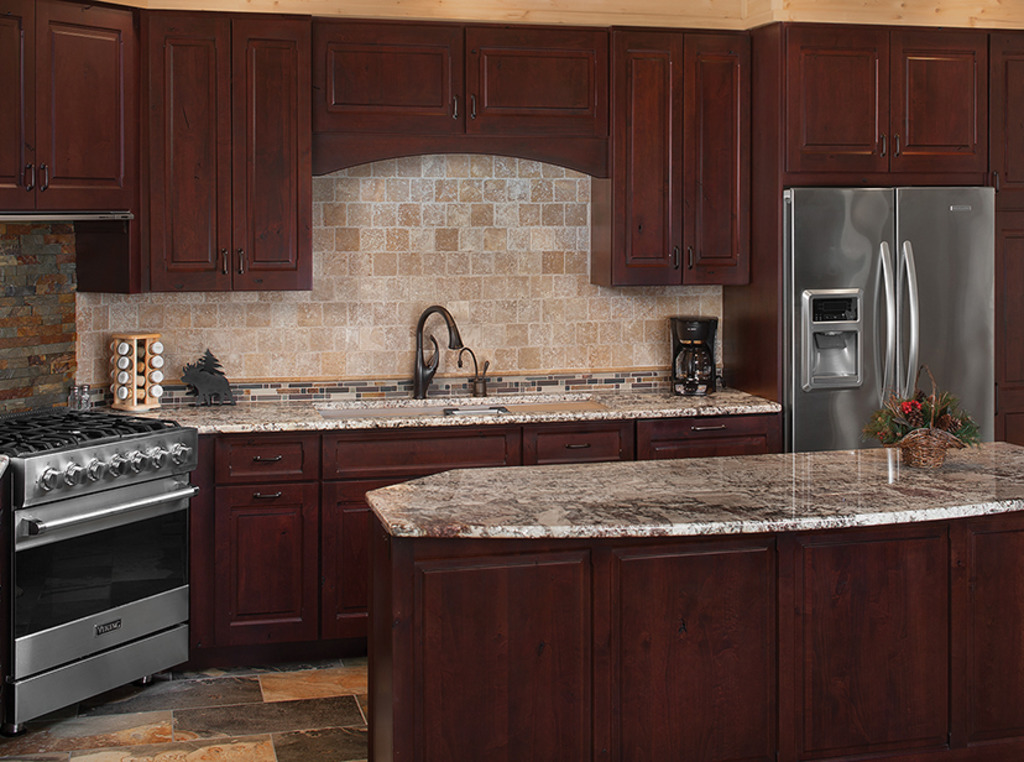kitchen_bar: (101, 298, 1024, 621)
sink: (495, 363, 620, 421)
